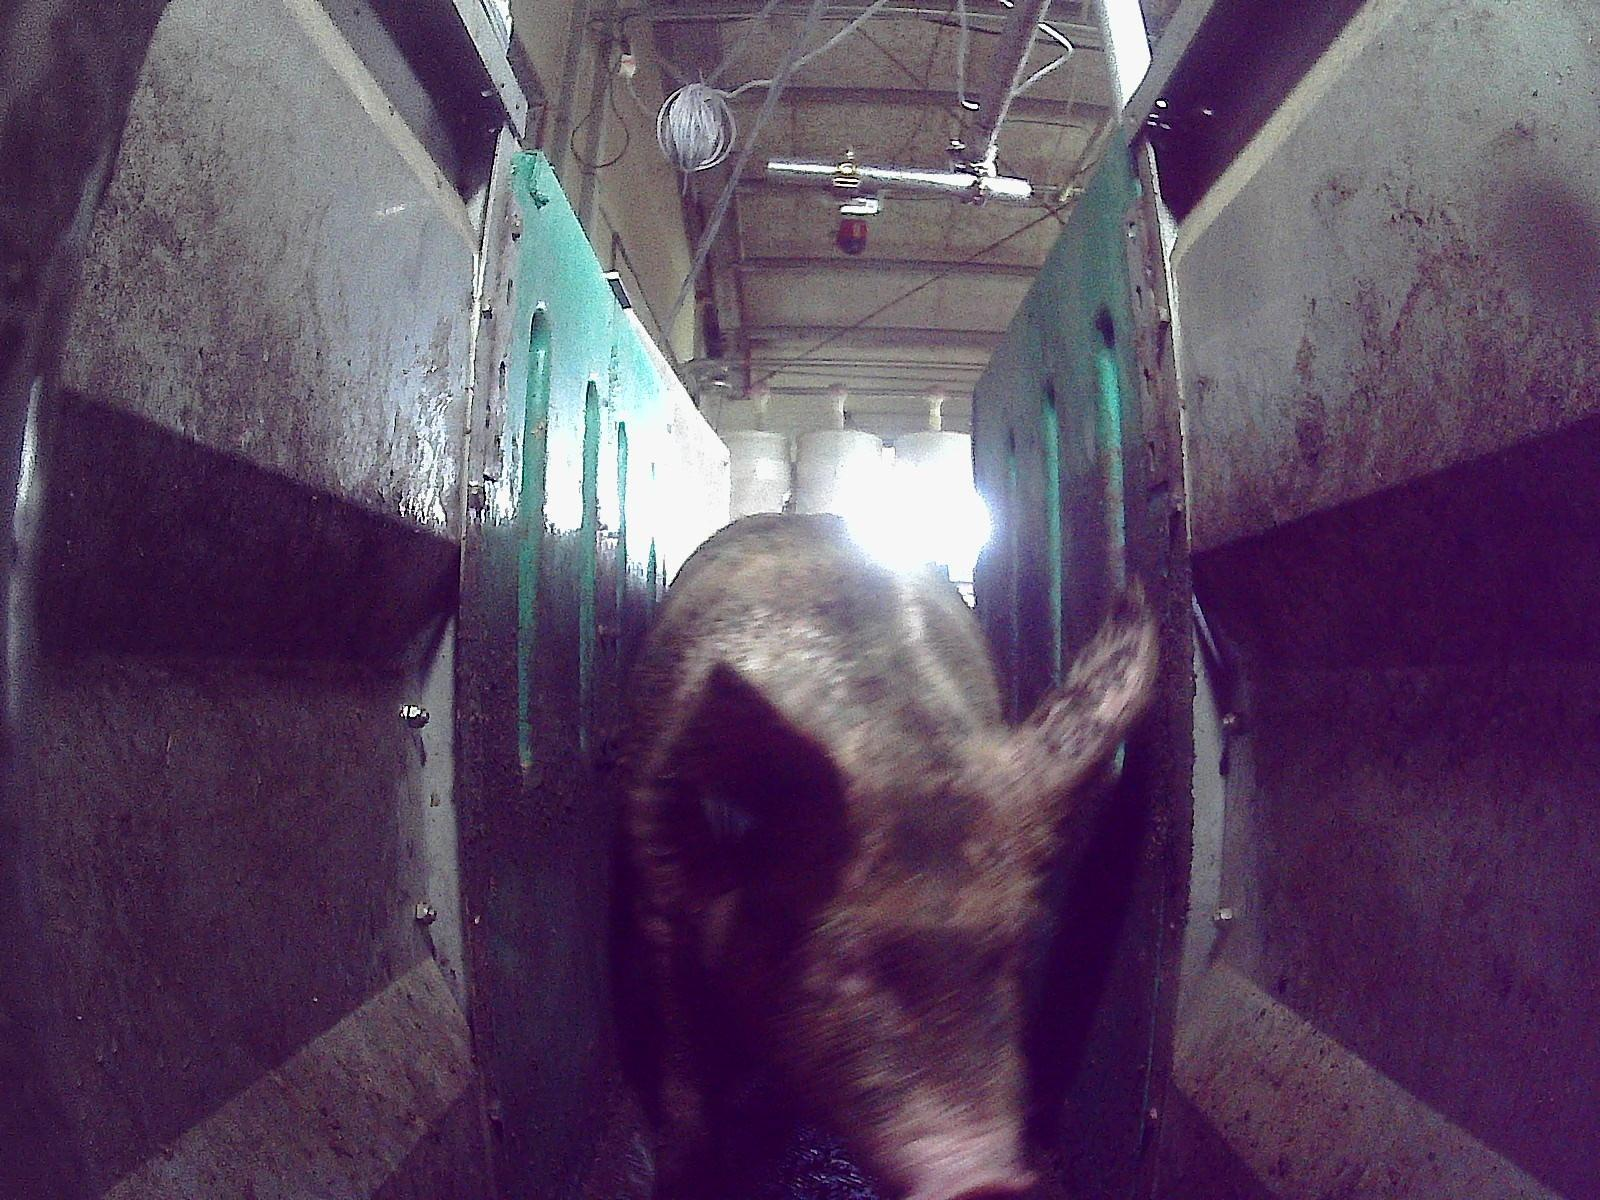Face: (725, 734, 1059, 1199)
